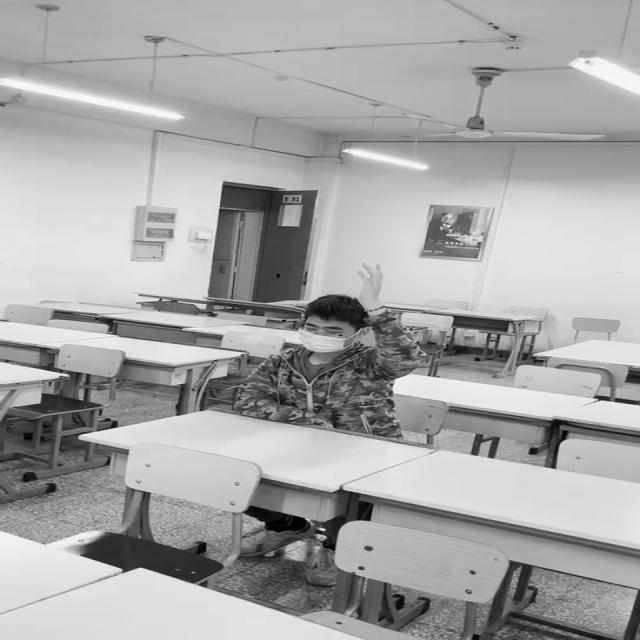study: (231, 260, 411, 431)
